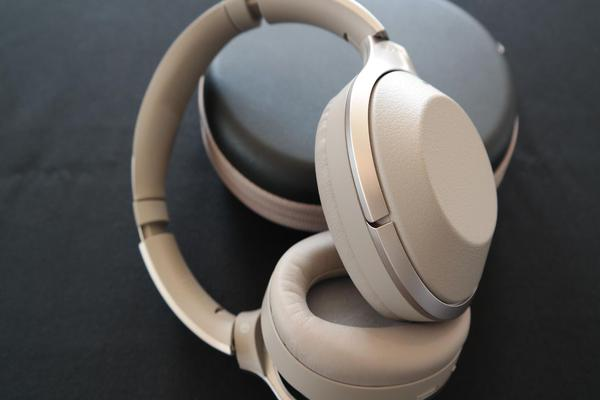headphone: (103, 11, 505, 400)
